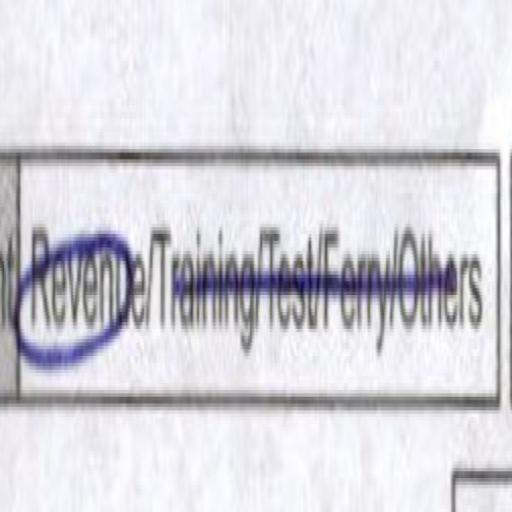check: (20, 150, 144, 384)
